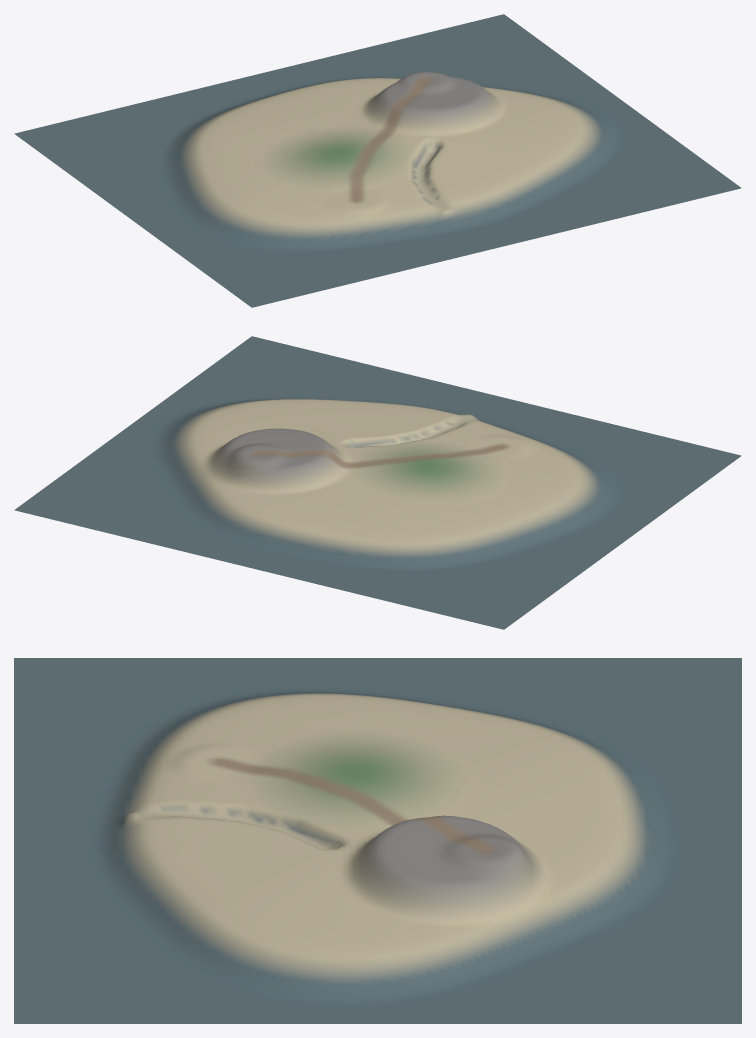
The model's file is island_terrain.glb.
3 views of the same model, one above another, from view 1: azimuth 30°, elevation 25°; view 2: azimuth 150°, elevation 25°; view 3: azimuth 270°, elevation 25° (orthographic). The views are drawn at different scales.
Parts seen in each view (by area): view 1: IslandTerrain-col; view 2: IslandTerrain-col; view 3: IslandTerrain-col.
Part boxes in pixels (x1,y1,x2,y2): IslandTerrain-col: (14, 14, 741, 307); IslandTerrain-col: (14, 336, 741, 629); IslandTerrain-col: (14, 658, 741, 1023).
Bounding box in the file's own units: 176 × 12.1 × 148.
